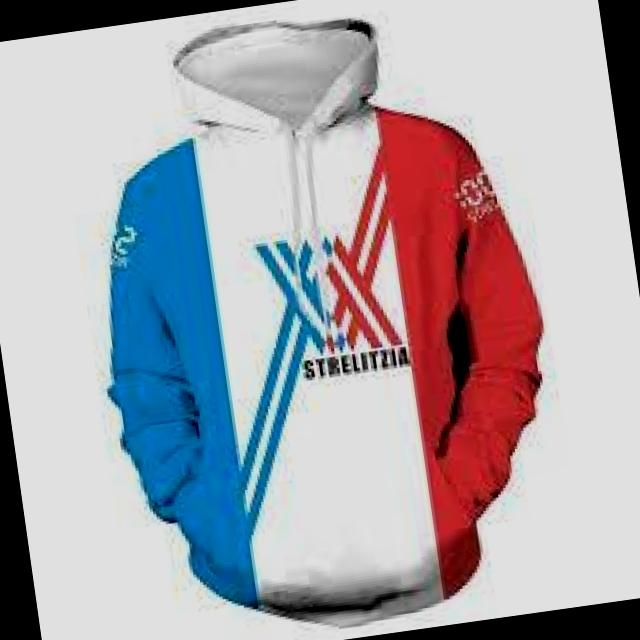sweater: (68, 0, 578, 640)
